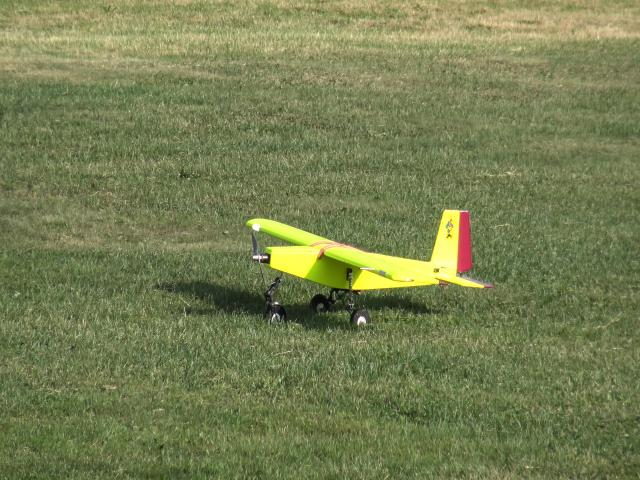plane: (244, 210, 492, 325)
